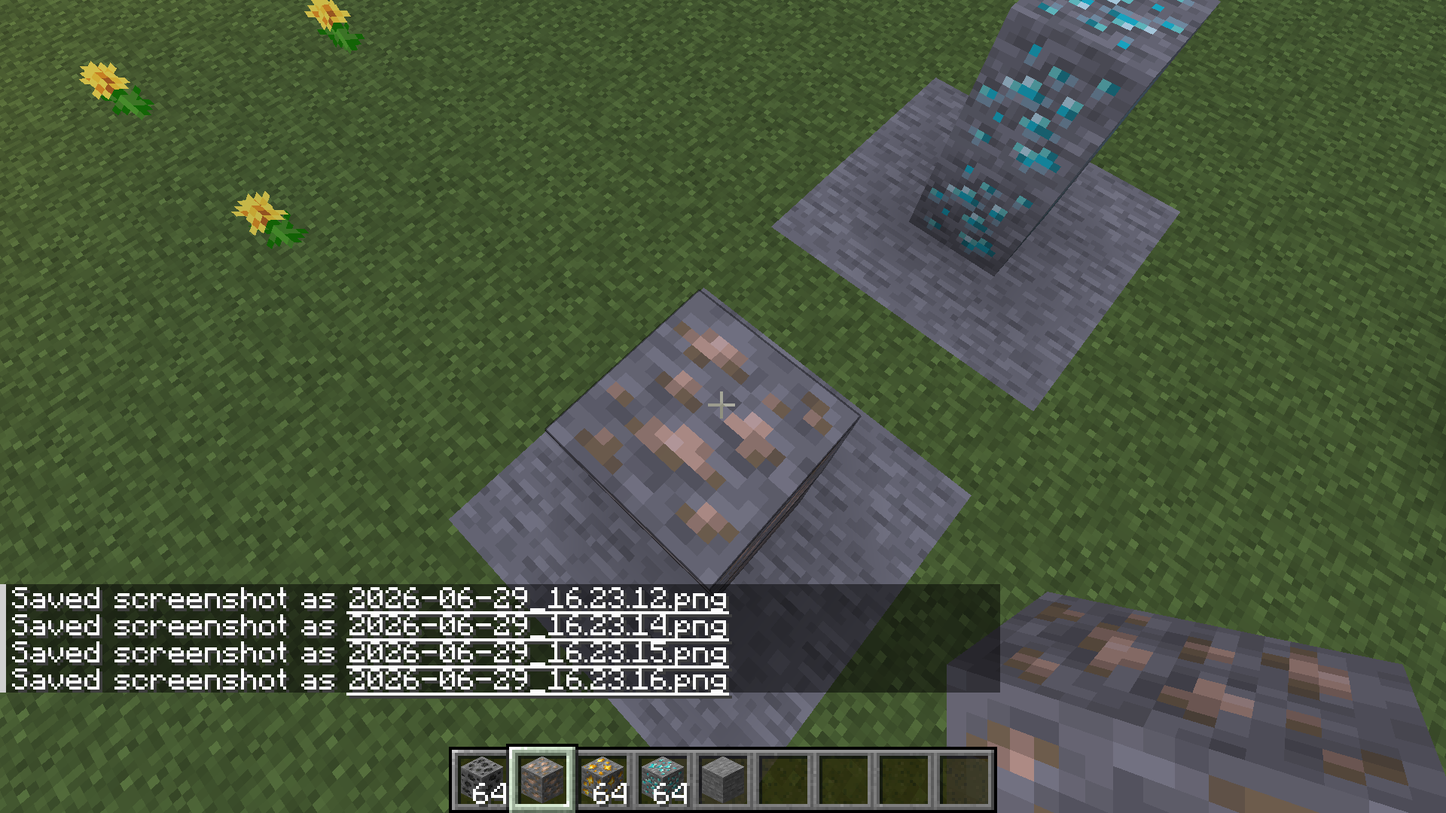iron ore: (553, 292, 858, 586)
